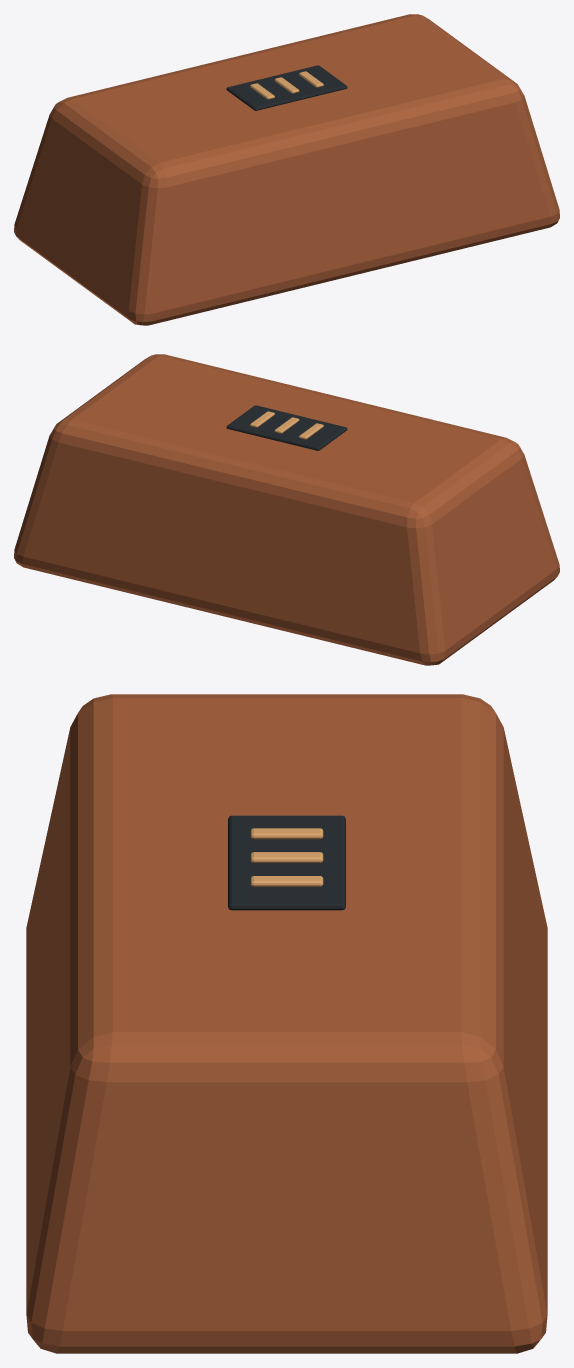
Rendered from Ingot.fbx.
3 renders of one model, top to bottom at view 1: azimuth 30°, elevation 25°; view 2: azimuth 150°, elevation 25°; view 3: azimuth 270°, elevation 25°, orthographic. The views are drawn at different scales.
Visible parts, largest first — view 1: Ingot; view 2: Ingot; view 3: Ingot.
Boxes of the visible parts, <box> form: Ingot: <box>14,14,559,325</box>; Ingot: <box>14,354,559,665</box>; Ingot: <box>26,694,547,1353</box>.
Size of the model in its own units: 96.46 by 32.1 by 50.78.
Materials: 1 (1 with a texture image).
